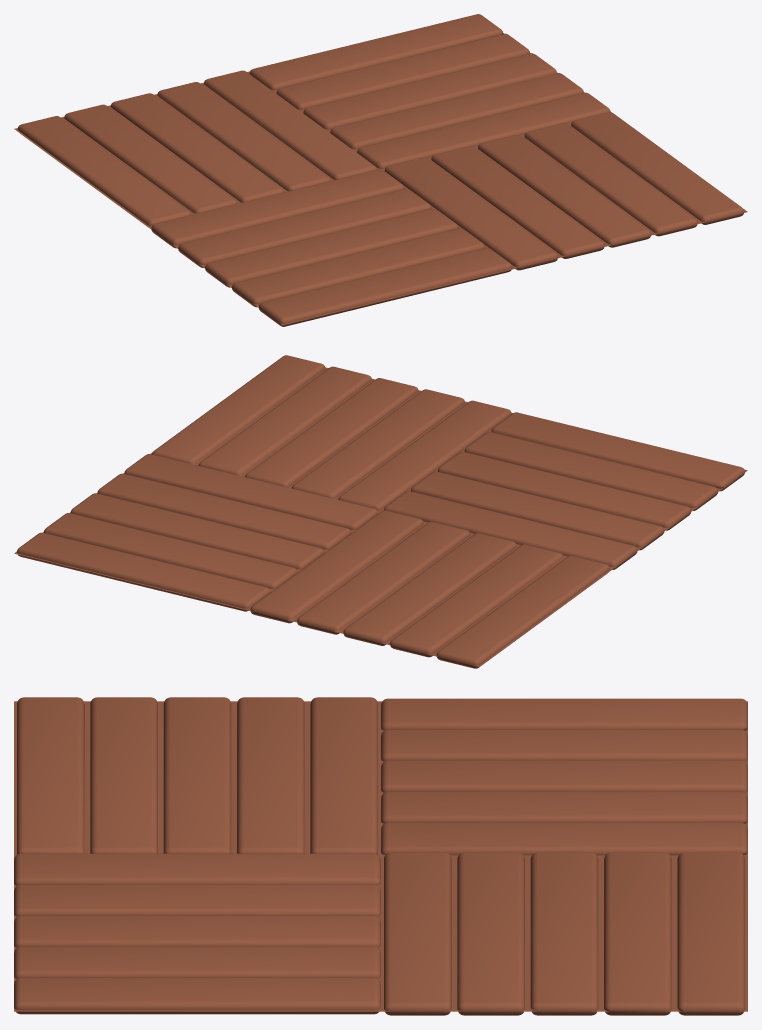
The model's file is Wooden_Floor2.fbx.
3 views of the same model, one above another, from view 1: azimuth 30°, elevation 25°; view 2: azimuth 150°, elevation 25°; view 3: azimuth 270°, elevation 25° (orthographic). The views are drawn at different scales.
Parts seen in each view (by area): view 1: Wooden_Floor.004; view 2: Wooden_Floor.004; view 3: Wooden_Floor.004.
Boxes of the visible parts, x1,y1,x2,y2 form: Wooden_Floor.004: (14, 14, 747, 326); Wooden_Floor.004: (14, 355, 747, 668); Wooden_Floor.004: (14, 697, 747, 1015).
Bounding box in the file's own units: 400 × 7.55 × 400.
